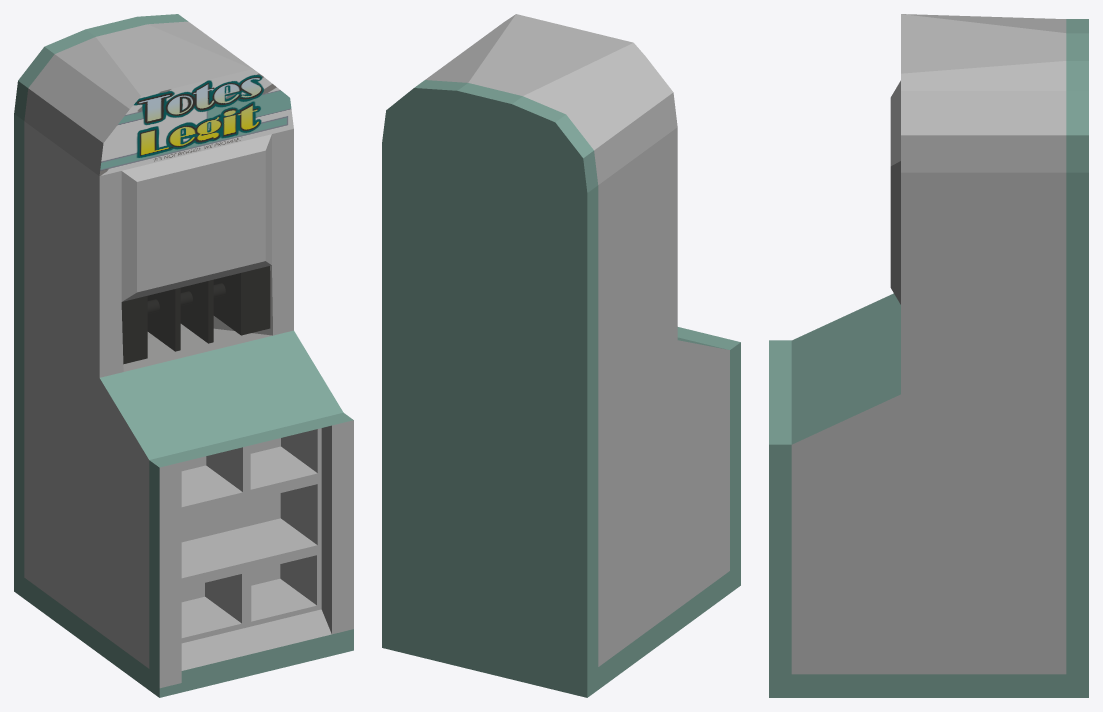
The model's file is OpenCase 1.fbx.
3 views of the same model, side by side, from view 1: azimuth 30°, elevation 25°; view 2: azimuth 150°, elevation 25°; view 3: azimuth 270°, elevation 25° (orthographic). The views are drawn at different scales.
Visible parts, largest first — view 1: pCube4, seperatorBlockRight, seperatorBlockLeft, seperatorBlockLeft2, seperatorBlockRight2; view 2: pCube4; view 3: pCube4.
Part boxes in pixels (x1,y1,x2,y2): pCube4: (14, 14, 353, 697); seperatorBlockRight: (213, 266, 270, 335); seperatorBlockLeft: (121, 296, 147, 364); seperatorBlockLeft2: (147, 287, 180, 351); seperatorBlockRight2: (180, 279, 213, 343); pCube4: (382, 14, 740, 697); pCube4: (769, 14, 1088, 697).
Size of the model in its own units: 6.21 by 16.71 by 8.04.
Materials: 6 (1 with a texture image).
